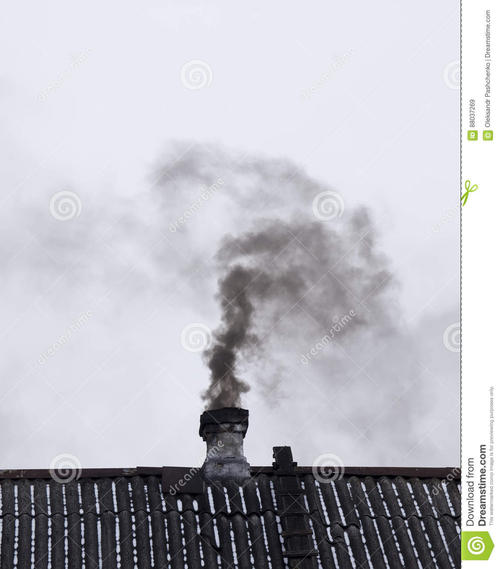smoke: (198, 138, 362, 403)
